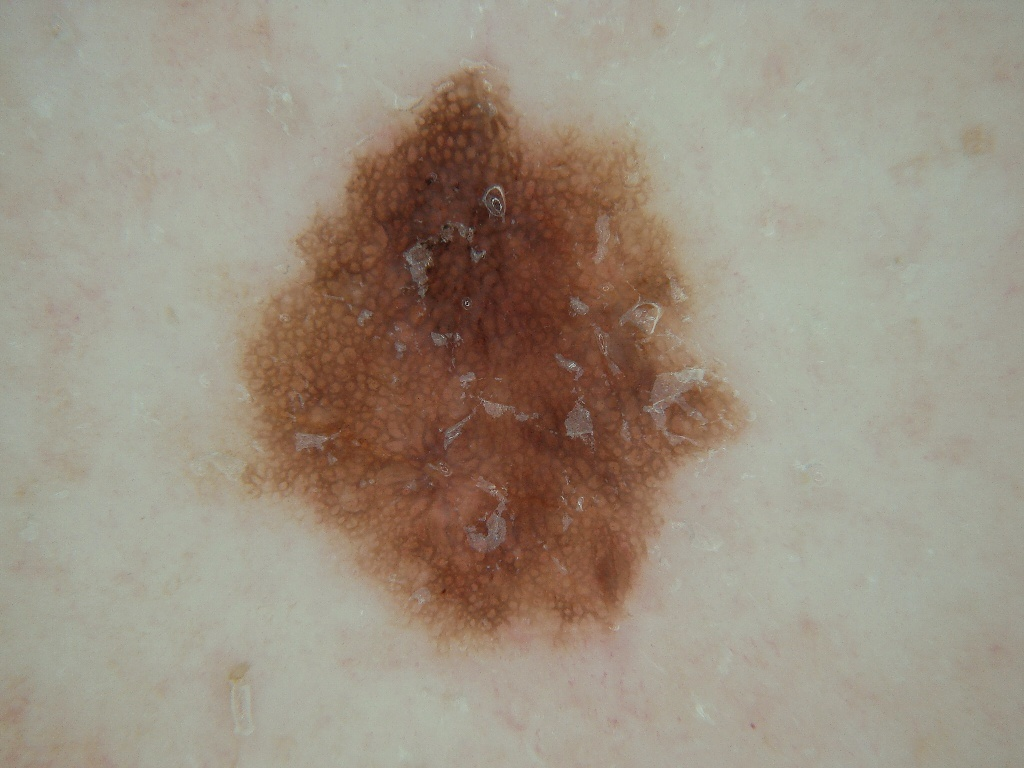Detected Lesion: (233, 52, 758, 642)
